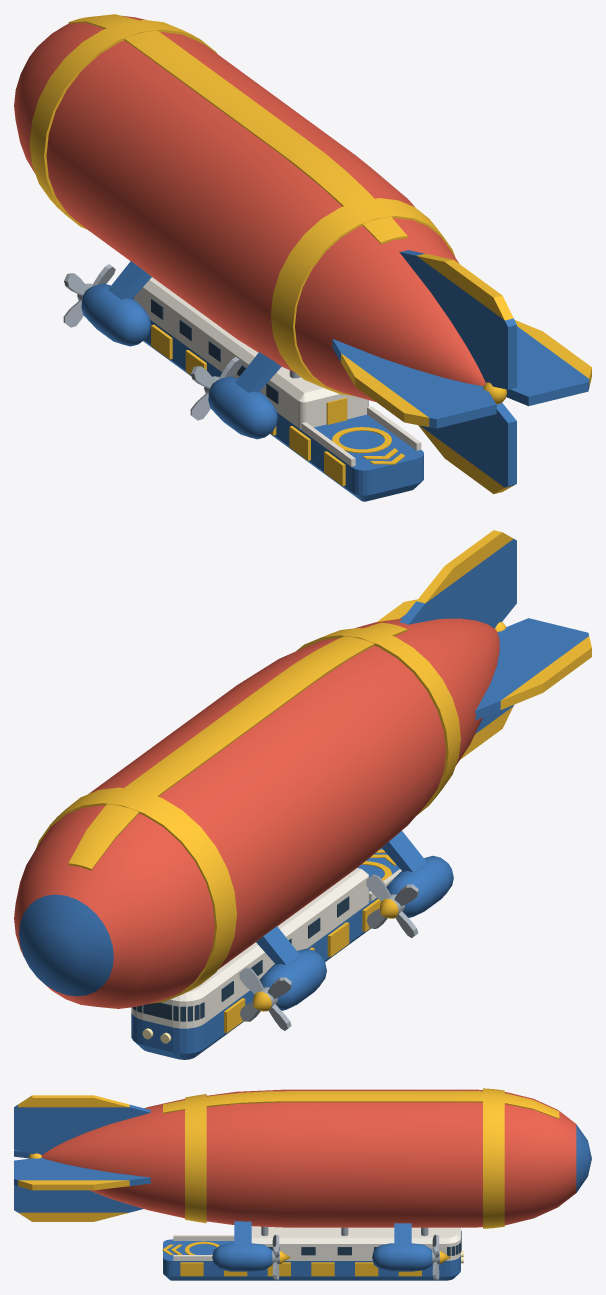
Rendered from unit-skyfortress.glb.
The picture shows the model from 3 angles, top to bottom: view 1: azimuth 30°, elevation 25°; view 2: azimuth 150°, elevation 25°; view 3: azimuth 270°, elevation 25°; orthographic projection. The views are drawn at different scales.
Visible parts, largest first — view 1: envelope, stripe (×3), gondola_cabin, gondola_hull, engine_pod (×2), fin_top, fin_left, fin_bottom, fin_right, propeller (×2), pylon (×2), fin_top_tip (+4 smaller); view 2: envelope, stripe (×3), nose_cap, gondola_cabin, fin_top, fin_left, engine_pod (×2), gondola_hull, propeller (×2), pylon (×2), fin_top_tip, fin_left_tip; view 3: envelope, stripe (×3), gondola_cabin, gondola_hull, fin_top, engine_pod (×2), fin_bottom, fin_right, fin_top_tip, fin_right_tip, hatch (×3), fin_bottom_tip (+4 smaller).
Boxes of the visible parts, x1,y1,x2,y2 form: envelope: (14,15,485,401); stripe (×3): (29,14,455,395); gondola_cabin: (134,277,368,428); gondola_hull: (143,320,423,501); engine_pod (×2): (81,283,277,439); fin_top: (399,250,516,389); fin_left: (332,338,496,428); fin_bottom: (420,403,516,487); fin_right: (506,326,589,406); propeller (×2): (63,264,242,420); pylon (×2): (108,261,281,392); fin_top_tip: (416,253,513,320); envelope: (14,618,499,1008); stripe (×3): (36,622,460,1003); nose_cap: (19,894,113,996); gondola_cabin: (131,868,368,1028); fin_top: (399,539,516,628); fin_left: (475,618,588,720); engine_pod (×2): (259,855,453,1010); gondola_hull: (131,848,399,1059); propeller (×2): (239,874,418,1030); pylon (×2): (256,831,426,964); fin_top_tip: (416,530,513,603); fin_left_tip: (500,636,591,709); envelope: (41,1089,576,1227); stripe (×3): (163,1088,559,1228); gondola_cabin: (251,1226,460,1260); gondola_hull: (163,1239,460,1280); fin_top: (14,1104,150,1155); engine_pod (×2): (212,1243,432,1271); fin_bottom: (14,1185,143,1212); fin_right: (14,1158,150,1185); fin_top_tip: (18,1095,129,1107); fin_right_tip: (18,1180,129,1190); hatch (×3): (180,1262,378,1276); fin_bottom_tip: (18,1212,128,1221).
Size of the model in its own units: 22.7 by 26.96 by 79.5.
